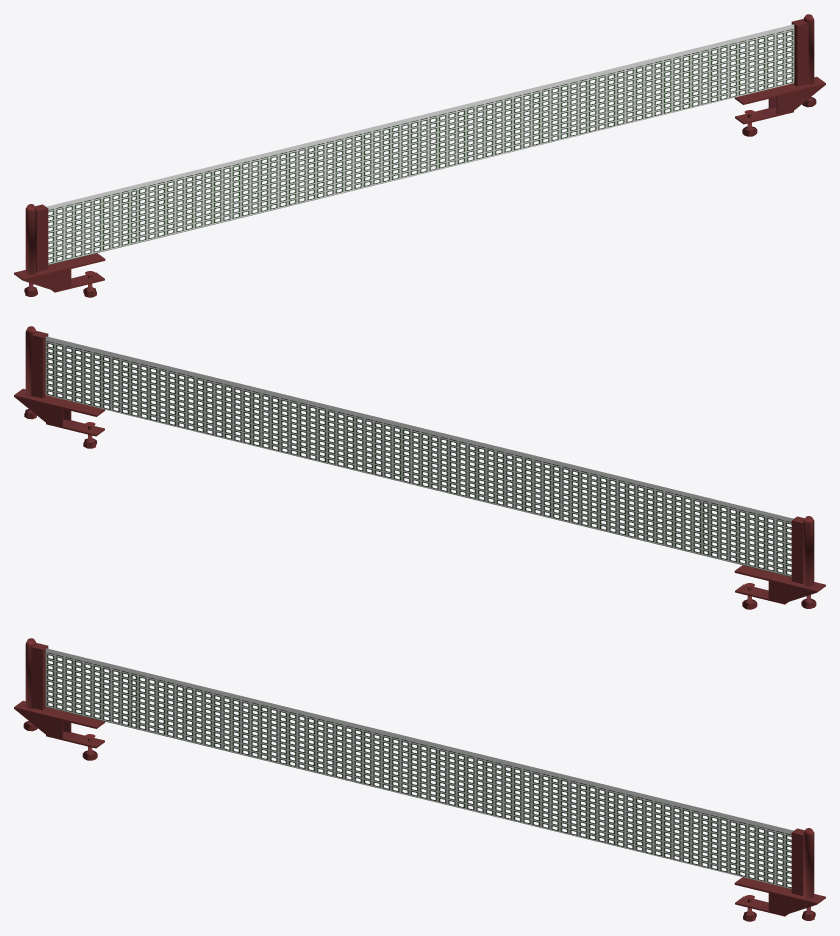
The model's file is rede.dae.
The picture shows the model from 3 angles, top to bottom: view 1: azimuth 30°, elevation 25°; view 2: azimuth 150°, elevation 25°; view 3: azimuth 330°, elevation 25°; orthographic projection.
Visible parts, largest first — view 1: Rede_Low1; view 2: Rede_Low1; view 3: Rede_Low1.
Part boxes in pixels (bbox=[...]): Rede_Low1: bbox=[14, 14, 825, 297]; Rede_Low1: bbox=[14, 326, 825, 609]; Rede_Low1: bbox=[14, 638, 825, 921].
Size of the model in its own units: 8.03 by 0.9952 by 0.1536.
